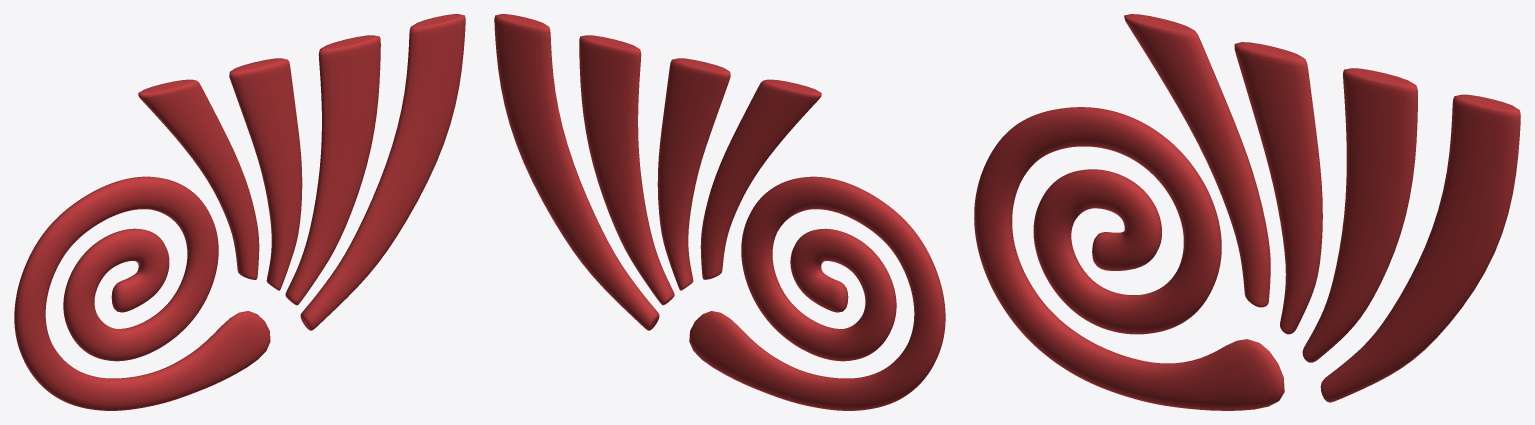
Rendered from CSU.gltf.
3 renders of one model, left to right at view 1: azimuth 30°, elevation 25°; view 2: azimuth 150°, elevation 25°; view 3: azimuth 330°, elevation 25°, orthographic. The views are drawn at different scales.
Parts seen in each view (by area): view 1: CSU Low; view 2: CSU Low; view 3: CSU Low.
Part boxes in pixels (x1,y1,x2,y2): CSU Low: (14, 14, 465, 410); CSU Low: (494, 14, 945, 410); CSU Low: (974, 14, 1520, 410).
Size of the model in its own units: 1.49 by 0.9955 by 0.0554.
